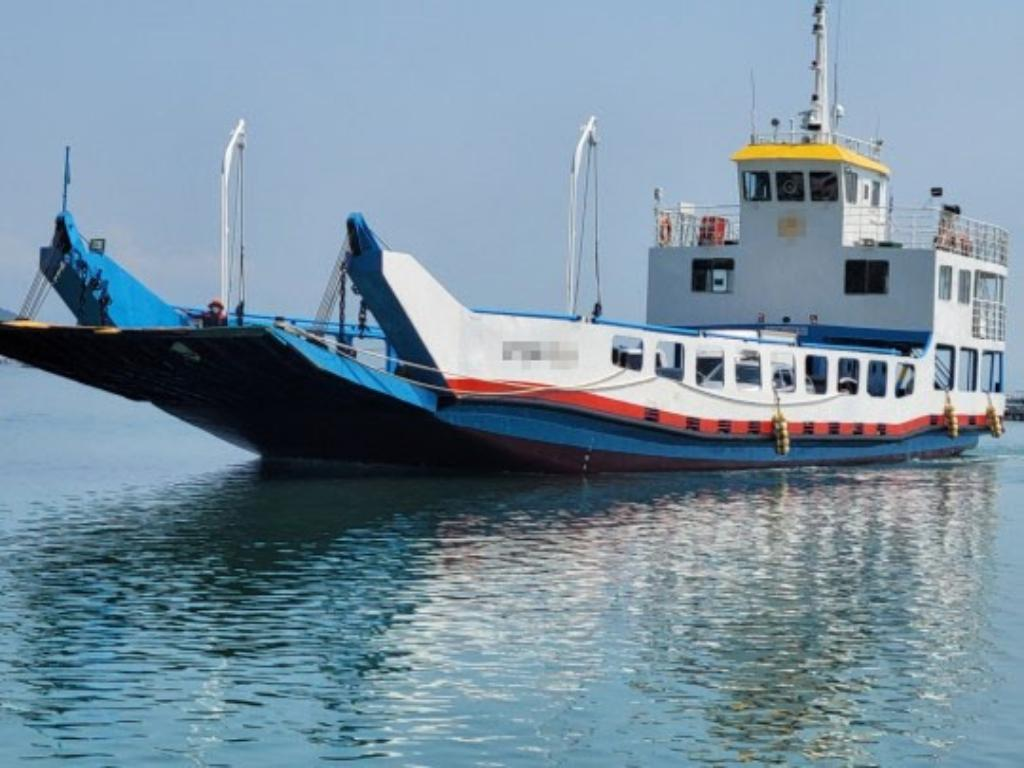PassengerShip: (10, 18, 1024, 472)
